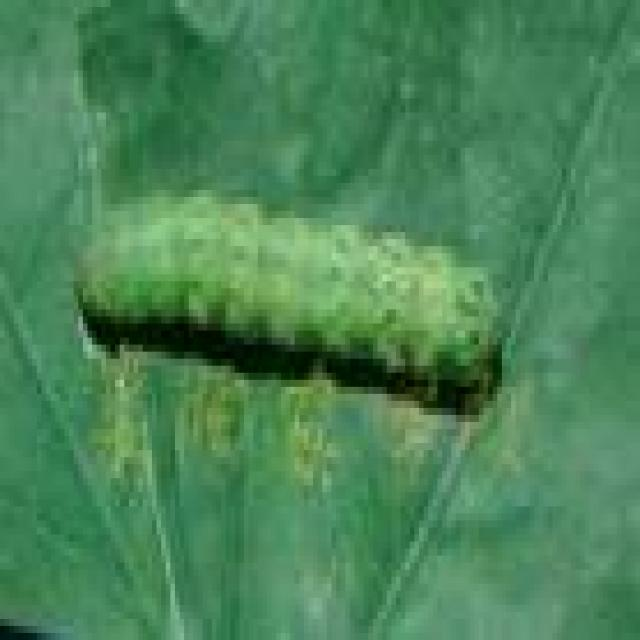BeetArmyWorm-Larva-: (70, 185, 518, 422)
